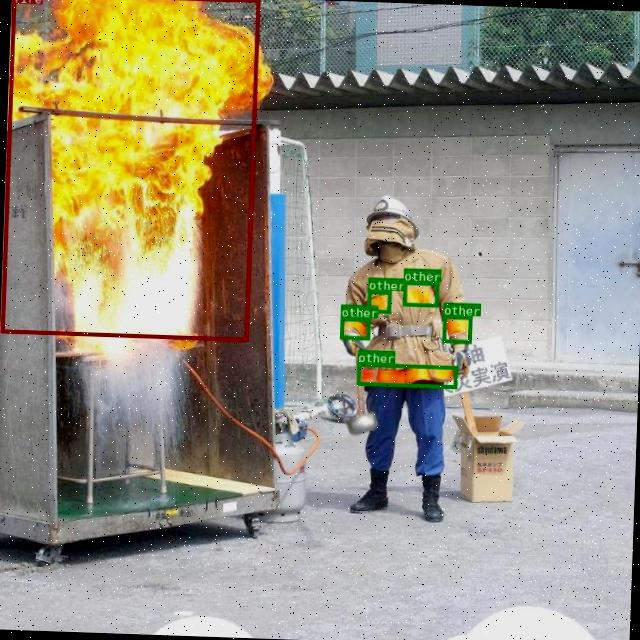fire: (0, 0, 259, 340)
